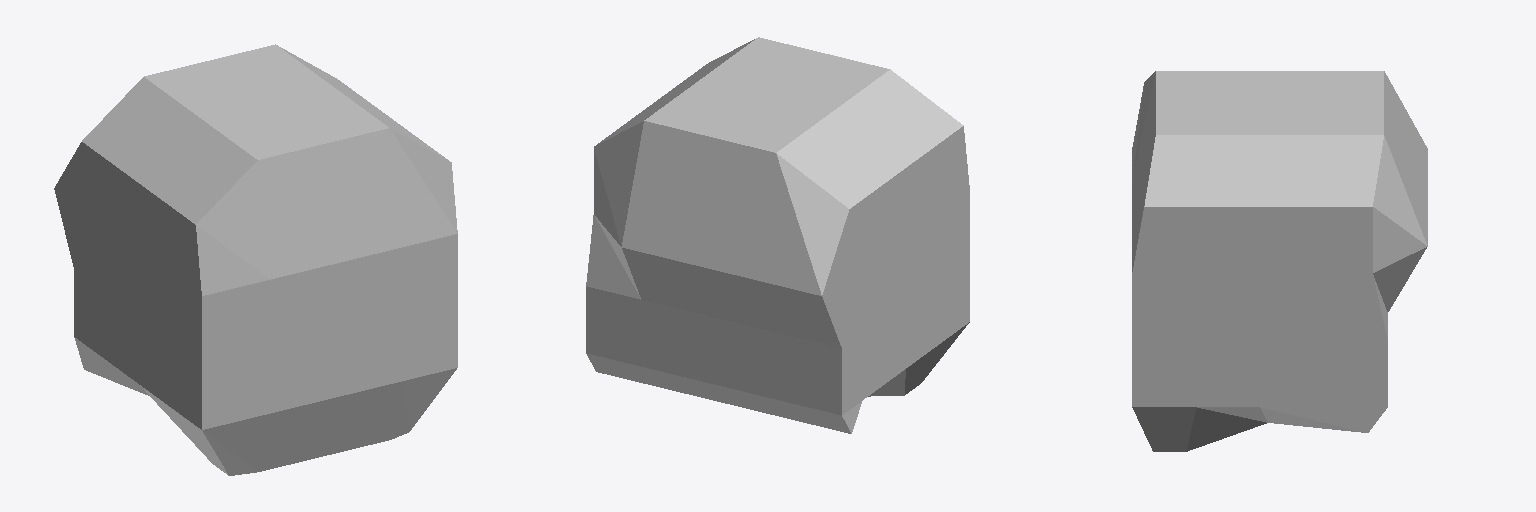
The model's file is head.obj.
3 renders of one model, left to right at view 1: azimuth 30°, elevation 25°; view 2: azimuth 150°, elevation 25°; view 3: azimuth 270°, elevation 25°, orthographic.
Visible parts, largest first — view 1: Cube; view 2: Cube; view 3: Cube.
Boxes of the visible parts, x1,y1,x2,y2 form: Cube: [54, 44, 457, 475]; Cube: [586, 37, 969, 433]; Cube: [1132, 71, 1427, 451].
Size of the model in its own units: 2 by 2.33 by 2.